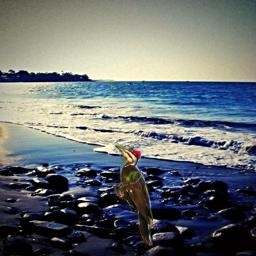Woodpecker: (113, 143, 153, 246)
